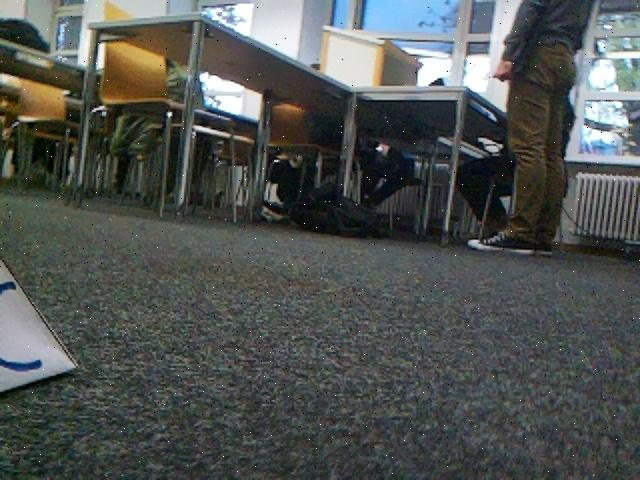C: (0, 248, 81, 396)
